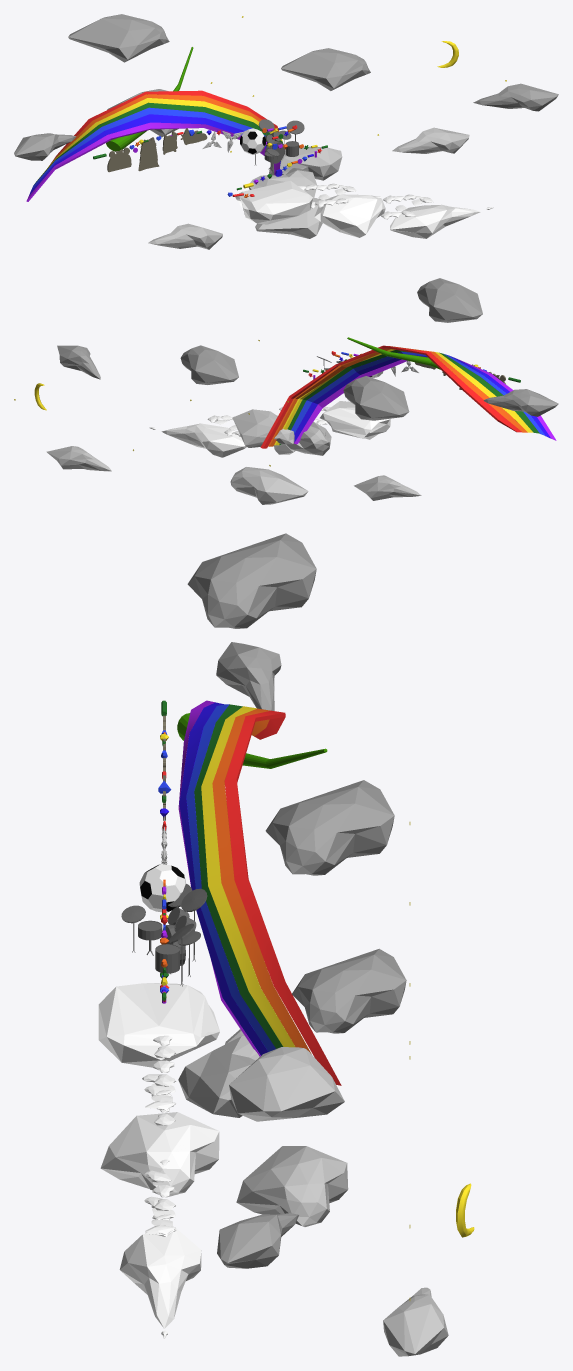
The model's file is frog_map_5stage_15.FBX.
3 views of the same model, one above another, from view 1: azimuth 30°, elevation 25°; view 2: azimuth 150°, elevation 25°; view 3: azimuth 270°, elevation 25° (orthographic). The views are drawn at different scales.
Parts seen in each view (by area): view 1: 5stage_backgroundOBJ23, 5stage_foothold059, 5stage_backgroundOBJ11, 5stage_foothold03, 5stage_foothold00, 5stage_backgroundOBJ07, 5stage_backgroundOBJ04, 5stage_backgroundOBJ22, 5stage_backgroundOBJ20, 5stage_backgroundOBJ00, 5stage_backgroundOBJ19, 5stage_backgroundOBJ03 (+12 smaller); view 2: 5stage_backgroundOBJ14, 5stage_backgroundOBJ23, 5stage_backgroundOBJ01, 5stage_backgroundOBJ21, 5stage_backgroundOBJ11, 5stage_foothold00, 5stage_foothold059, 5stage_backgroundOBJ04, 5stage_backgroundOBJ16, 6stage_backgroundOBJ25, 5stage_backgroundOBJ19, 5stage_backgroundOBJ18 (+8 smaller); view 3: 5stage_backgroundOBJ14, 5stage_backgroundOBJ23, 5stage_foothold059, 5stage_foothold03, 5stage_backgroundOBJ11, 5stage_backgroundOBJ04, 5stage_backgroundOBJ01, 5stage_backgroundOBJ21, 5stage_backgroundOBJ16, 5stage_foothold00, 5stage_backgroundOBJ17, 5stage_backgroundOBJ02 (+8 smaller).
Part boxes in pixels (x1,y1,x2,y2): 5stage_backgroundOBJ23: [68, 14, 169, 62]; 5stage_foothold059: [235, 180, 312, 224]; 5stage_backgroundOBJ11: [281, 48, 370, 90]; 5stage_foothold03: [314, 194, 385, 237]; 5stage_foothold00: [390, 204, 480, 238]; 5stage_backgroundOBJ07: [473, 83, 558, 111]; 5stage_backgroundOBJ04: [269, 146, 342, 180]; 5stage_backgroundOBJ22: [26, 122, 279, 201]; 5stage_backgroundOBJ20: [29, 114, 280, 195]; 5stage_backgroundOBJ00: [392, 127, 469, 153]; 5stage_backgroundOBJ19: [31, 107, 265, 190]; 5stage_backgroundOBJ03: [148, 223, 222, 249]; 5stage_backgroundOBJ14: [343, 376, 409, 420]; 5stage_backgroundOBJ23: [417, 278, 482, 322]; 5stage_backgroundOBJ01: [230, 467, 308, 504]; 5stage_backgroundOBJ21: [260, 345, 522, 448]; 5stage_backgroundOBJ11: [180, 345, 238, 384]; 5stage_foothold00: [161, 423, 246, 457]; 5stage_foothold059: [320, 401, 390, 439]; 5stage_backgroundOBJ04: [232, 409, 294, 447]; 5stage_backgroundOBJ16: [268, 346, 527, 446]; 6stage_backgroundOBJ25: [483, 389, 558, 416]; 5stage_backgroundOBJ19: [291, 351, 545, 435]; 5stage_backgroundOBJ18: [279, 350, 539, 445]; 5stage_backgroundOBJ14: [265, 780, 394, 875]; 5stage_backgroundOBJ23: [187, 533, 316, 628]; 5stage_foothold059: [98, 983, 219, 1067]; 5stage_foothold03: [100, 1112, 219, 1196]; 5stage_backgroundOBJ11: [292, 948, 406, 1033]; 5stage_backgroundOBJ04: [229, 1047, 344, 1121]; 5stage_backgroundOBJ01: [236, 1146, 348, 1226]; 5stage_backgroundOBJ21: [224, 710, 341, 1085]; 5stage_backgroundOBJ16: [212, 708, 311, 1054]; 5stage_foothold00: [119, 1228, 201, 1328]; 5stage_backgroundOBJ17: [201, 706, 295, 1047]; 5stage_backgroundOBJ02: [178, 1036, 259, 1117].
Bounding box in the file's own units: 6409 × 2991 × 2073.
